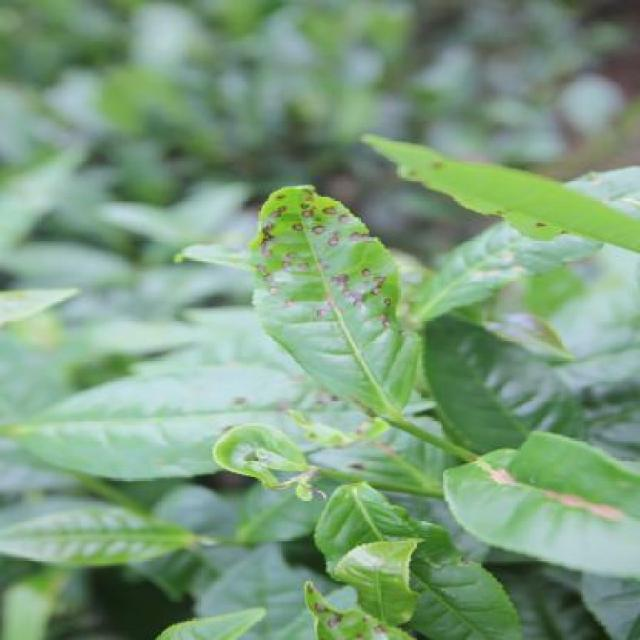Tea Mosquito bug infested leaf: (243, 172, 423, 423)
